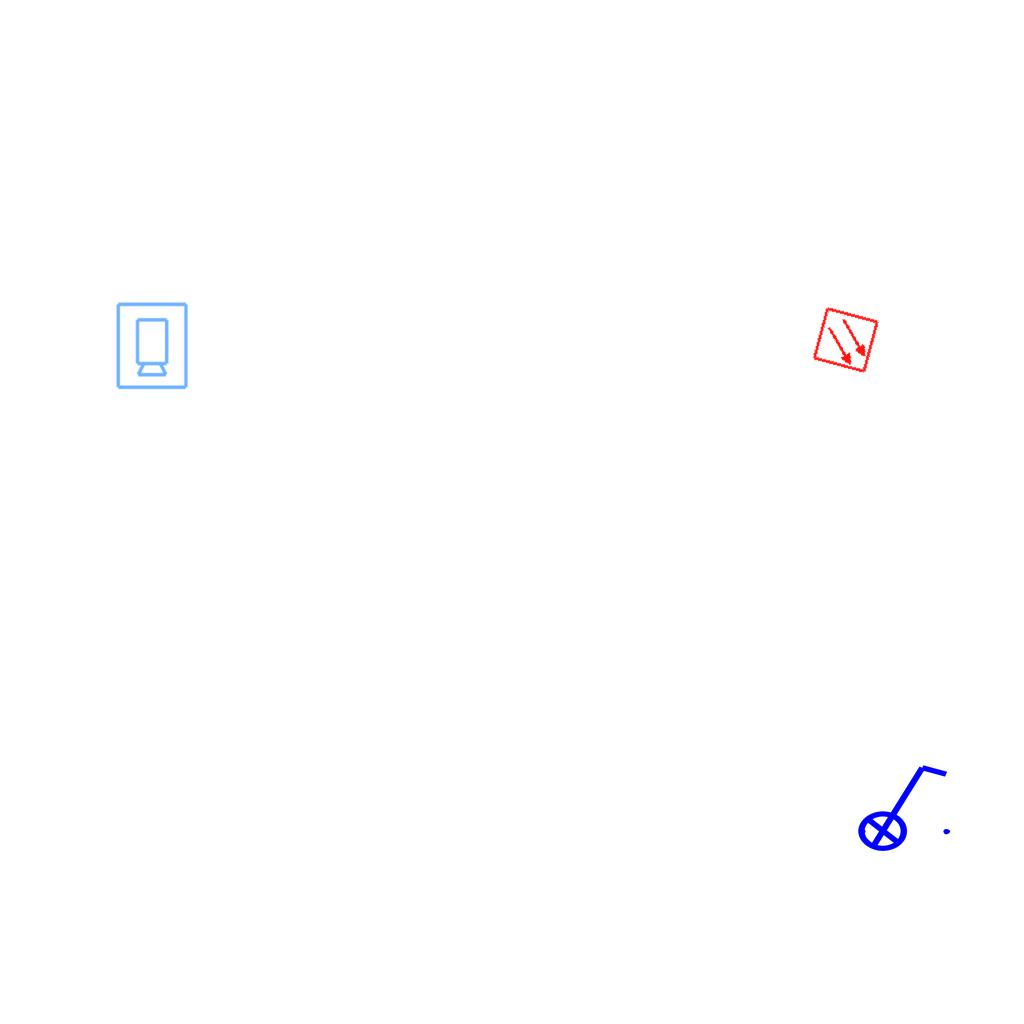Ausschalter_beleuchtet: (844, 757, 956, 853)
KFO_Kamera_mit_Festobjektiv: (113, 300, 190, 391)
RMO_Rauchmelder_optischer: (811, 305, 881, 375)
